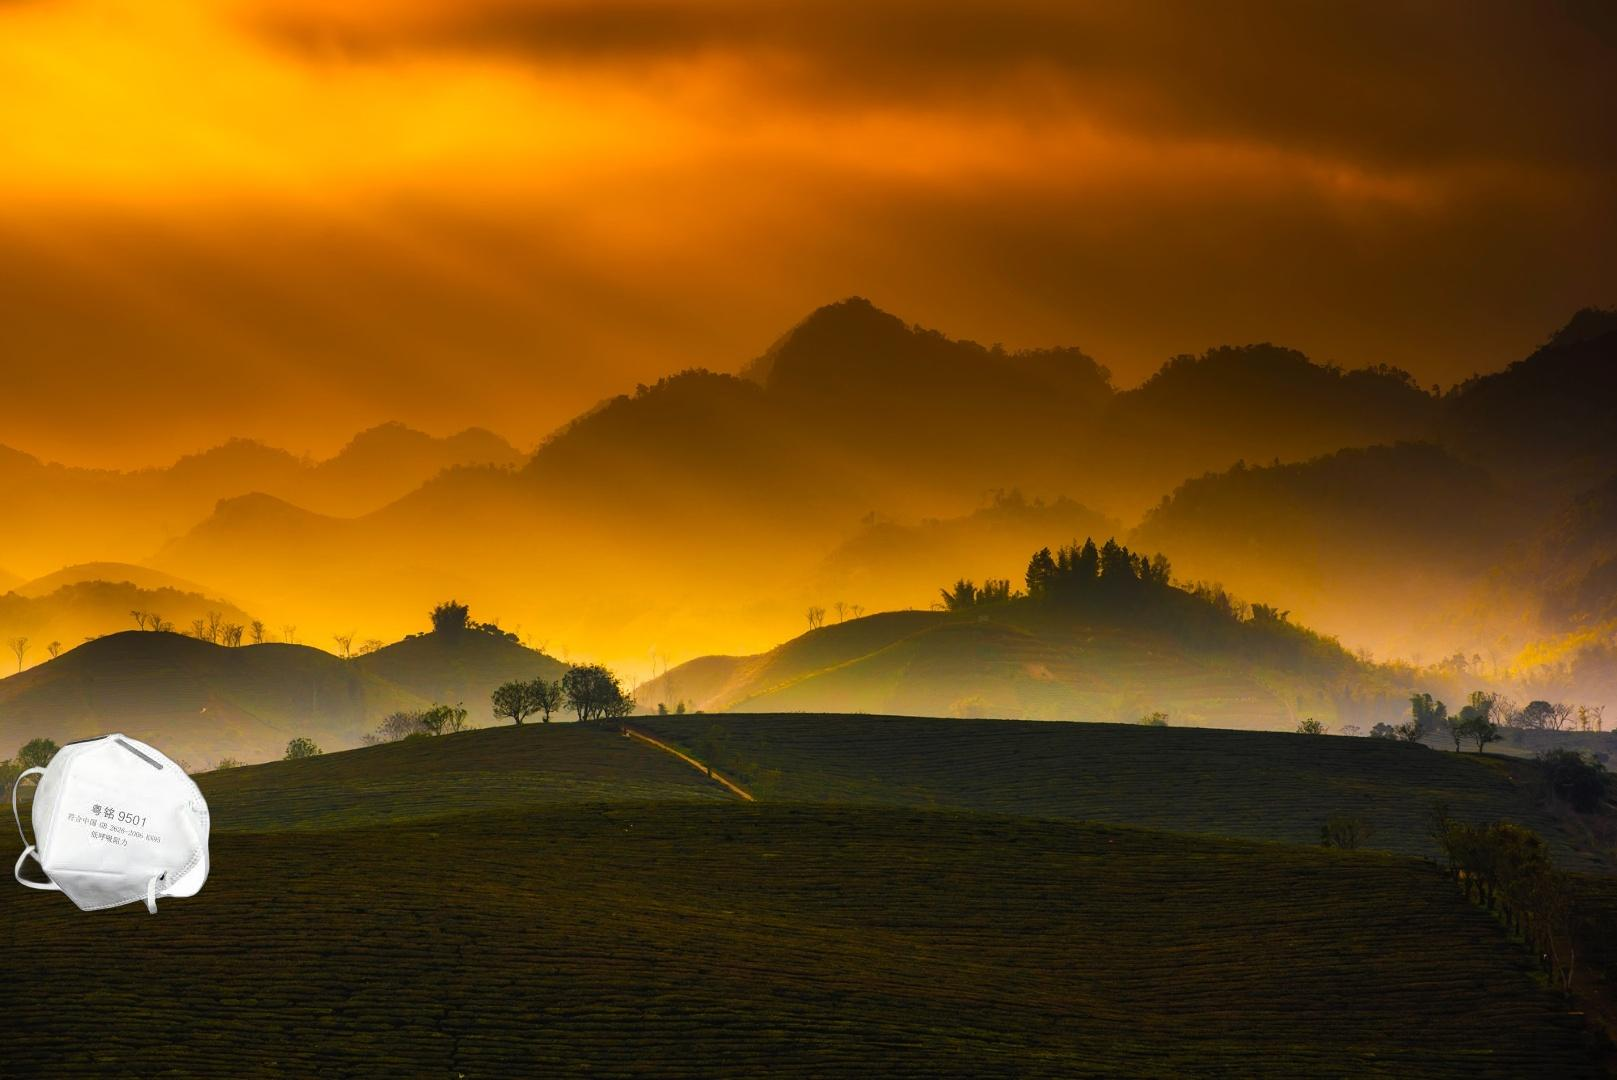trash: (8, 730, 213, 917)
